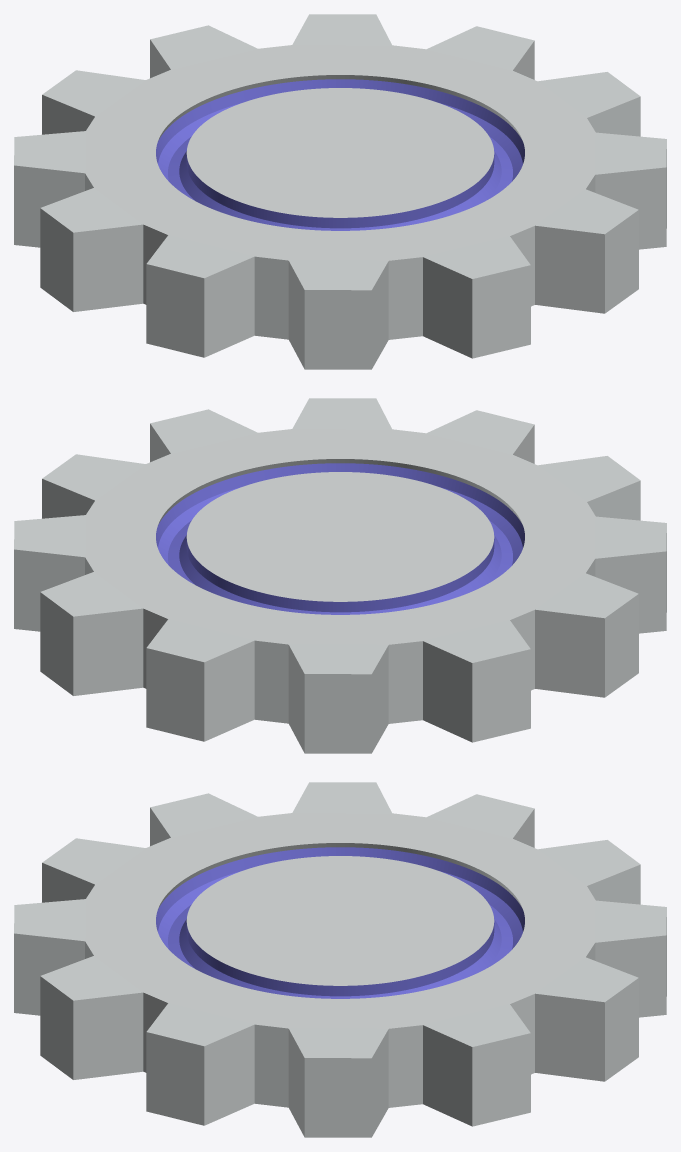
File: bluegear.glb
3 views of the same model, one above another, from view 1: azimuth 30°, elevation 25°; view 2: azimuth 150°, elevation 25°; view 3: azimuth 270°, elevation 25° (orthographic).
Visible parts, largest first — view 1: Cylinder; view 2: Cylinder; view 3: Cylinder.
Part boxes in pixels (bbox=[...]): Cylinder: bbox=[14, 14, 666, 369]; Cylinder: bbox=[14, 398, 666, 753]; Cylinder: bbox=[14, 782, 666, 1137].
Size of the model in its own units: 1.95 by 0.2627 by 1.95.
